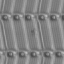dust: (30, 29, 35, 35)
